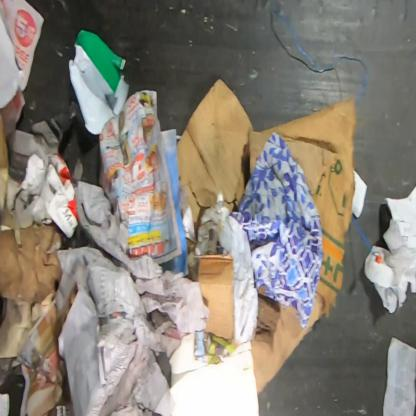cardboard: (173, 79, 359, 396), (0, 220, 65, 305), (186, 250, 235, 339)
rigid_plastic: (67, 29, 130, 136)
